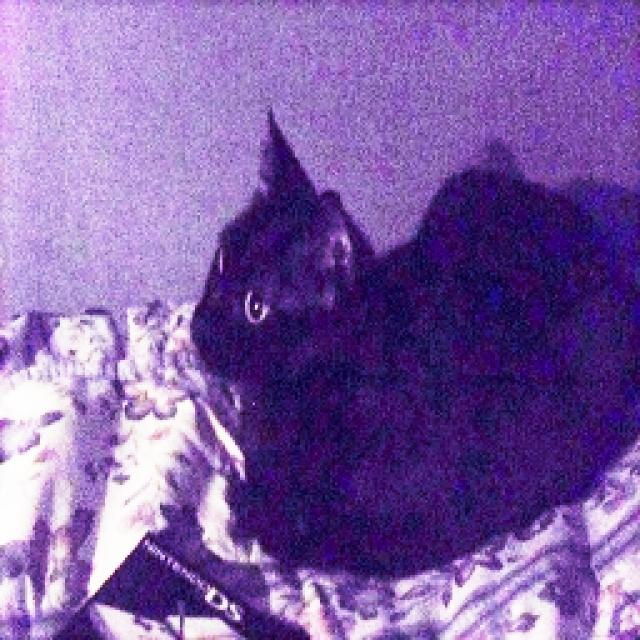cat: (192, 106, 640, 574)
